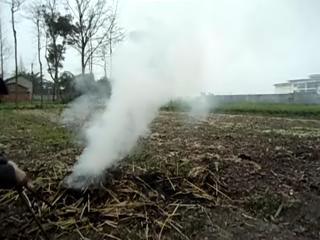yanwu: (67, 20, 207, 186)
